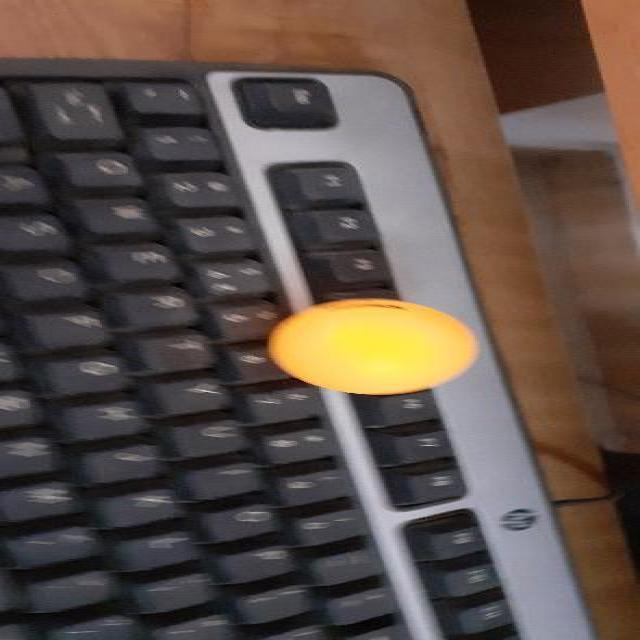oball: (269, 299, 475, 399)
